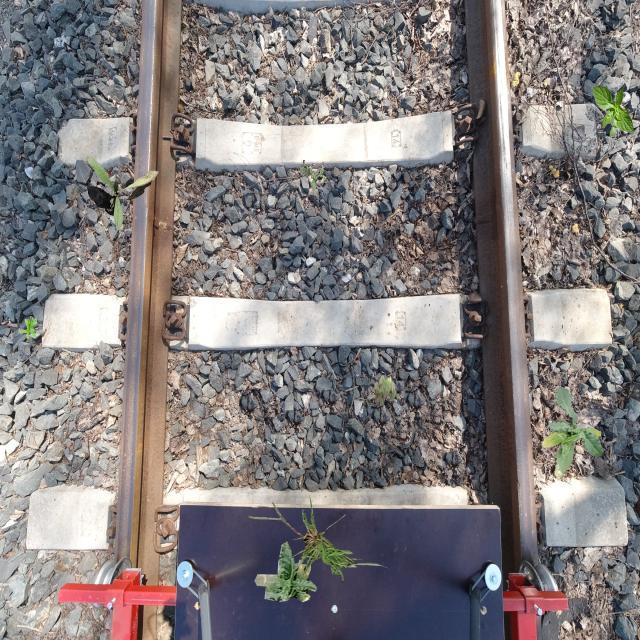Plant: (248, 493, 392, 583), (541, 386, 604, 479), (87, 157, 158, 232), (254, 540, 318, 602), (592, 84, 634, 138), (300, 160, 328, 190), (374, 374, 400, 406), (20, 316, 38, 340)
